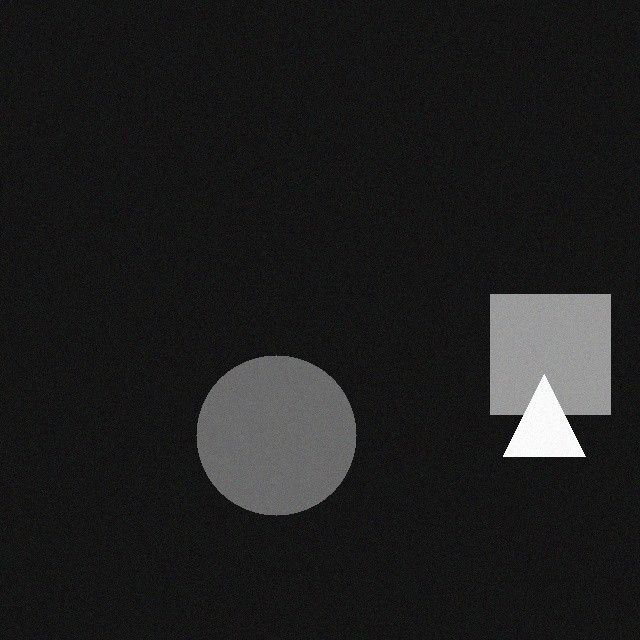circle: (197, 357, 357, 517)
square: (491, 296, 611, 416)
triangle: (504, 376, 586, 458)
